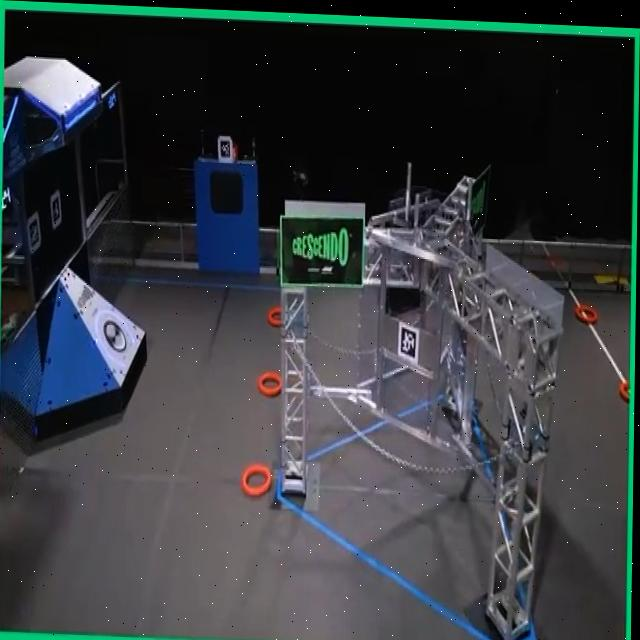note: (243, 461, 274, 495), (259, 370, 284, 395), (575, 297, 600, 321), (268, 306, 284, 326), (620, 374, 630, 396)
